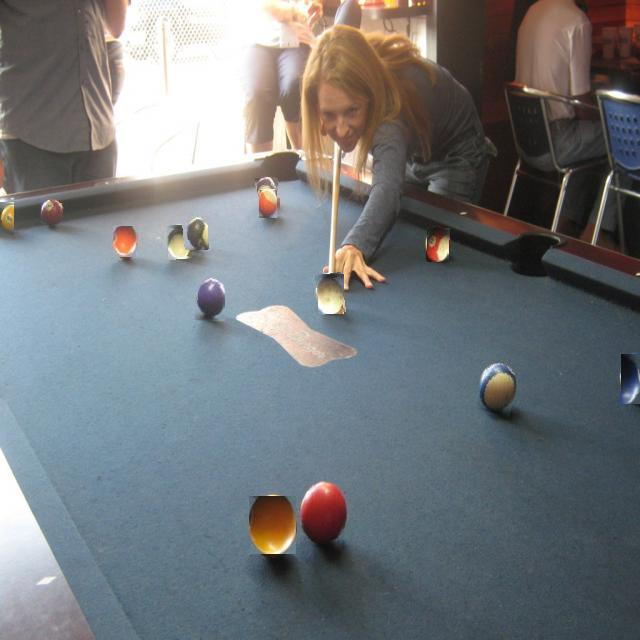Ball: (302, 481, 346, 549), (250, 496, 296, 554), (479, 362, 519, 416), (196, 277, 226, 322), (317, 273, 345, 315), (620, 354, 640, 404), (167, 224, 192, 260), (426, 228, 450, 262), (184, 218, 208, 250), (114, 226, 138, 257), (41, 201, 63, 227), (260, 190, 280, 218), (0, 202, 14, 236), (256, 178, 278, 194)
Billiard table: (0, 151, 639, 639)
